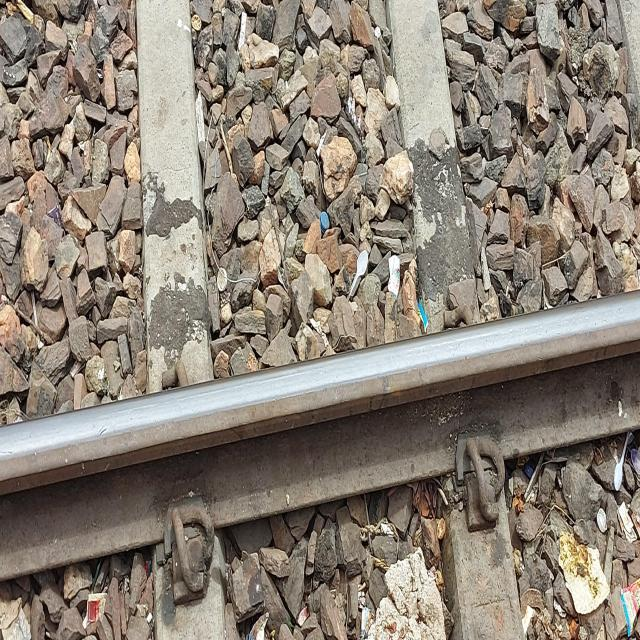broken_rail_medium: (0, 447, 14, 459), (99, 427, 108, 439), (92, 422, 95, 430)
